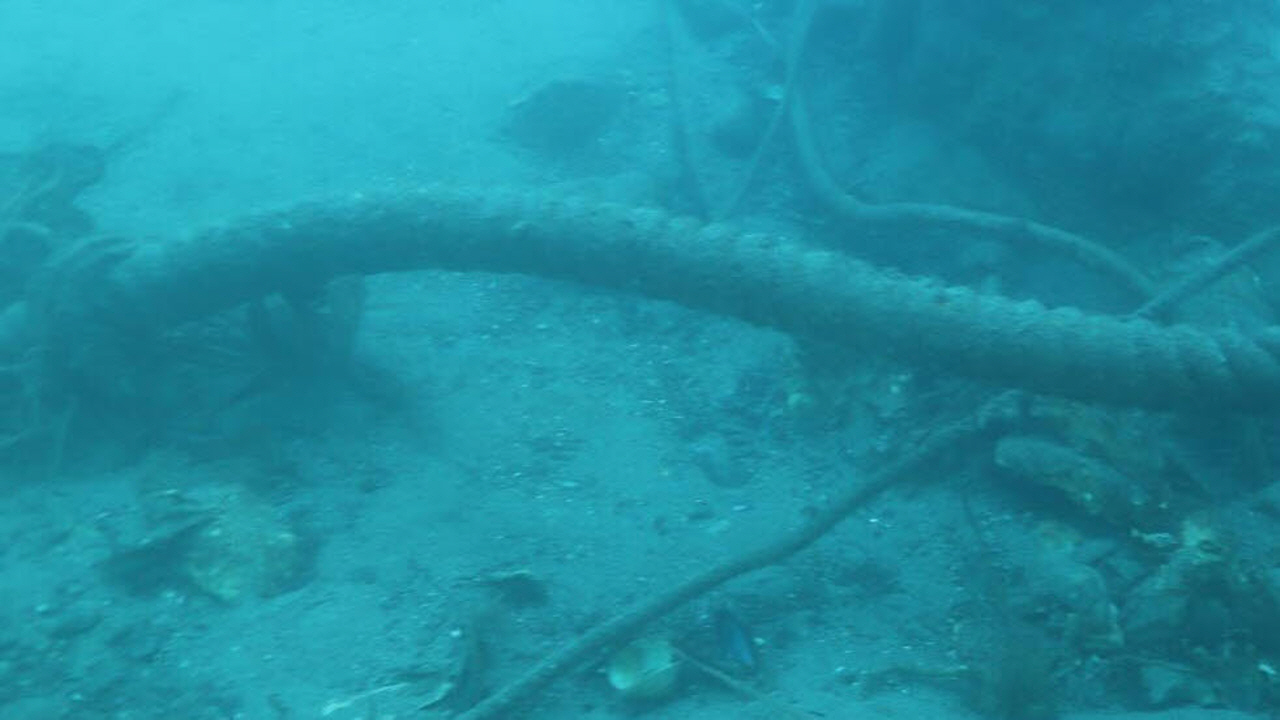rope: (453, 223, 1276, 720), (98, 175, 1275, 421), (773, 0, 1167, 303)
